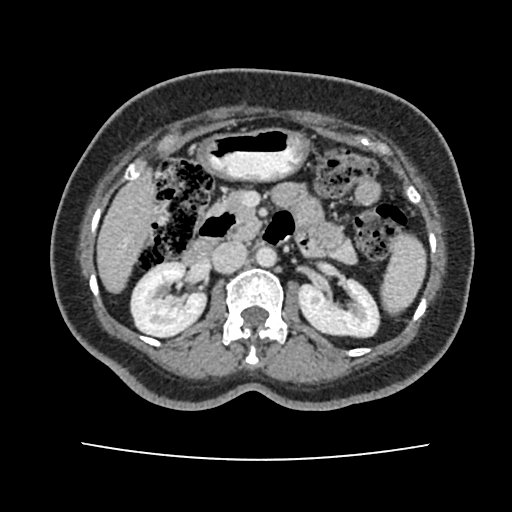aorta: (254, 244, 278, 269)
